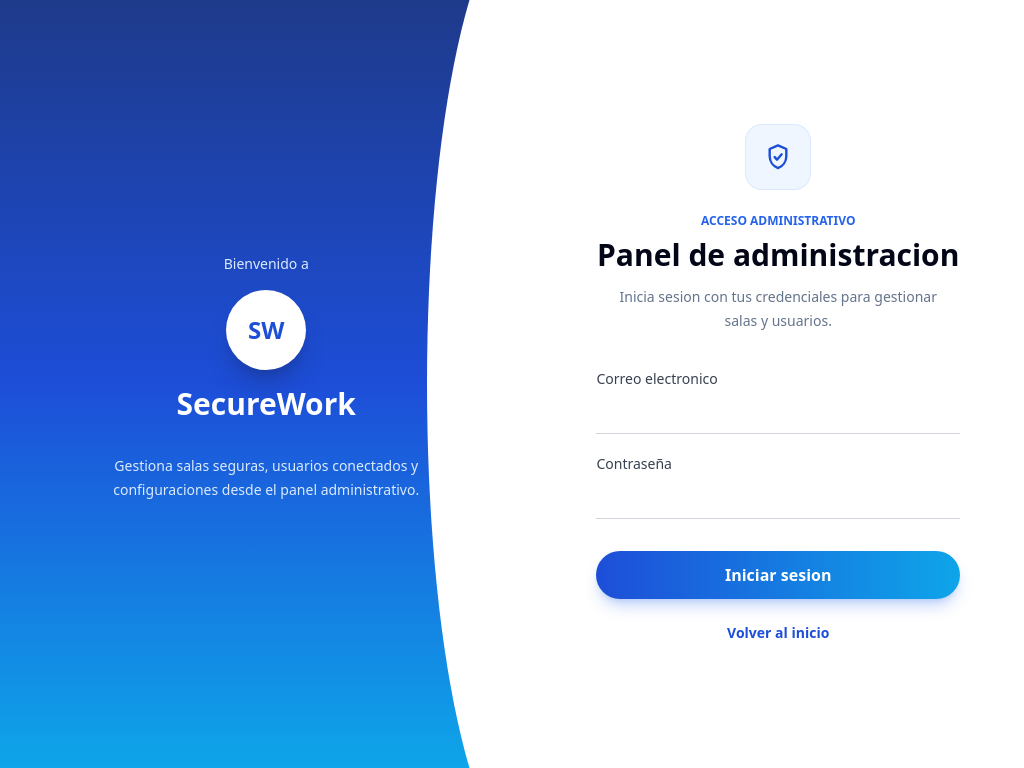
Test: AdminLogin › muestra error si password es corta
In the field labelled "Correo electronico": point(778, 414) top-left (596, 393), bottom-right (960, 434), type "test@mail.com"
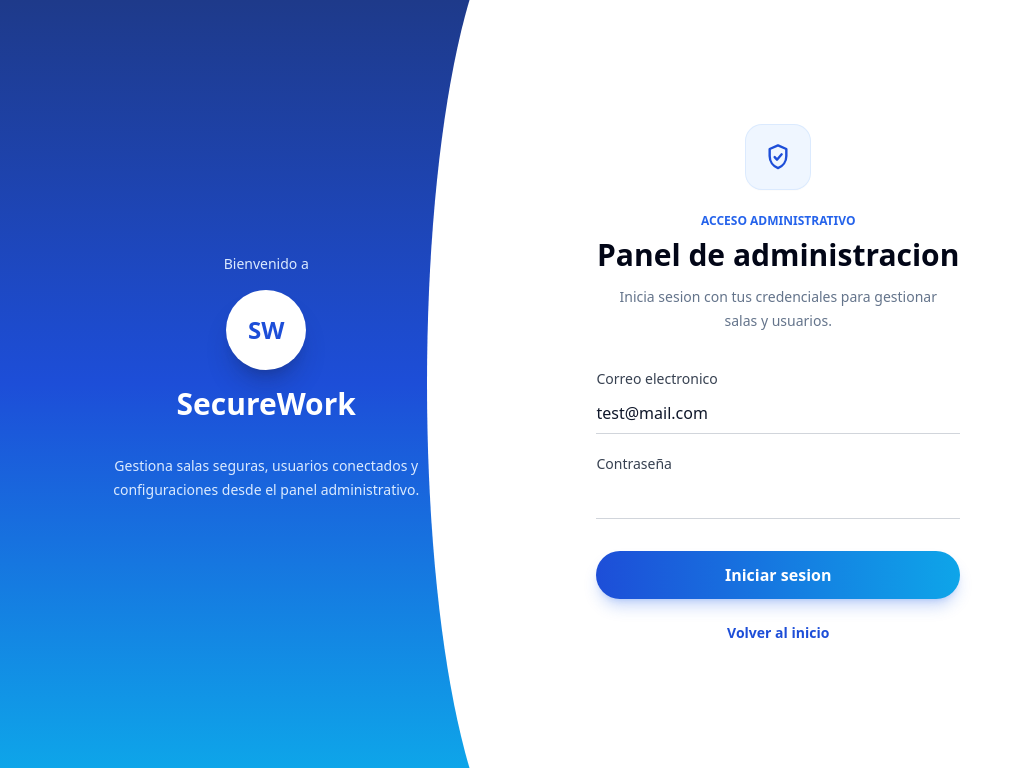
In the password field labelled "Contraseña": point(778, 498) top-left (596, 478), bottom-right (960, 519), type "123"
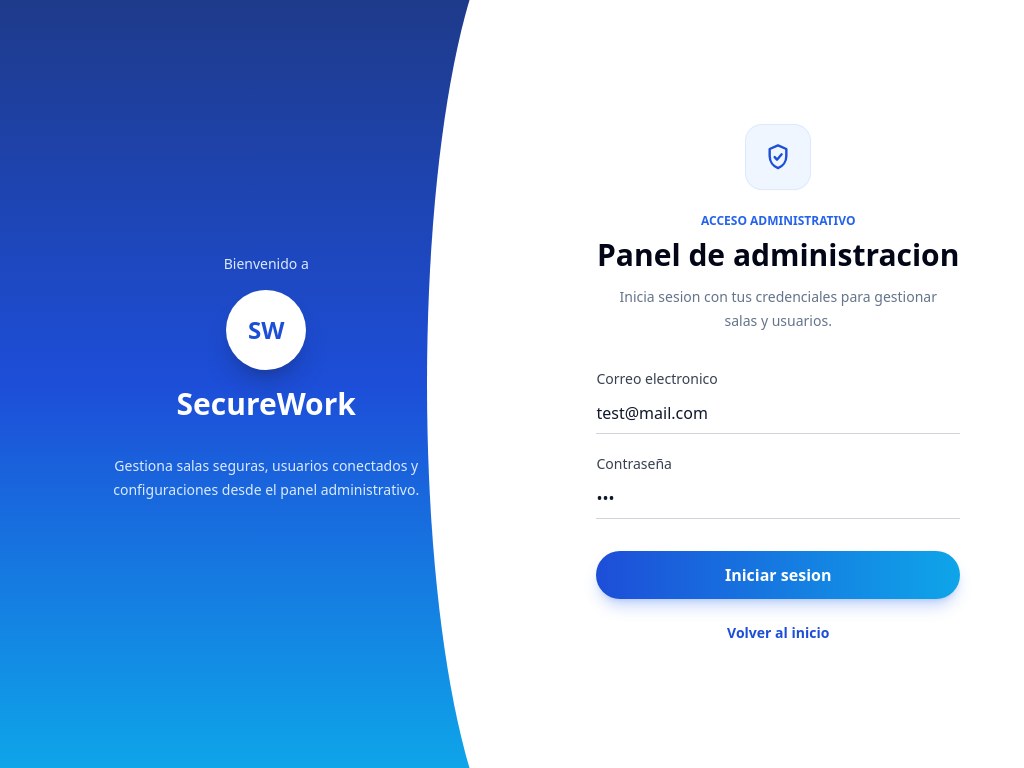
Click the button "Iniciar sesion": point(778, 575) top-left (596, 551), bottom-right (960, 599)
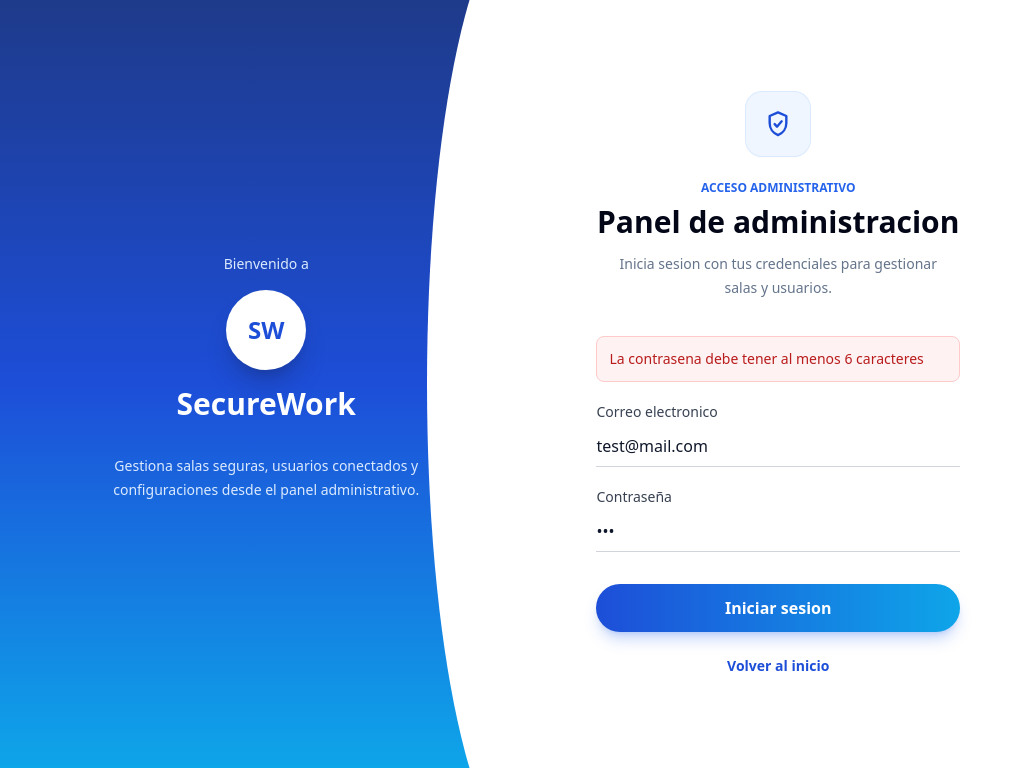
Check: the text "La contrasena debe tener al menos 6 caracteres" is shown, box top-left (596, 336), bottom-right (960, 382)
